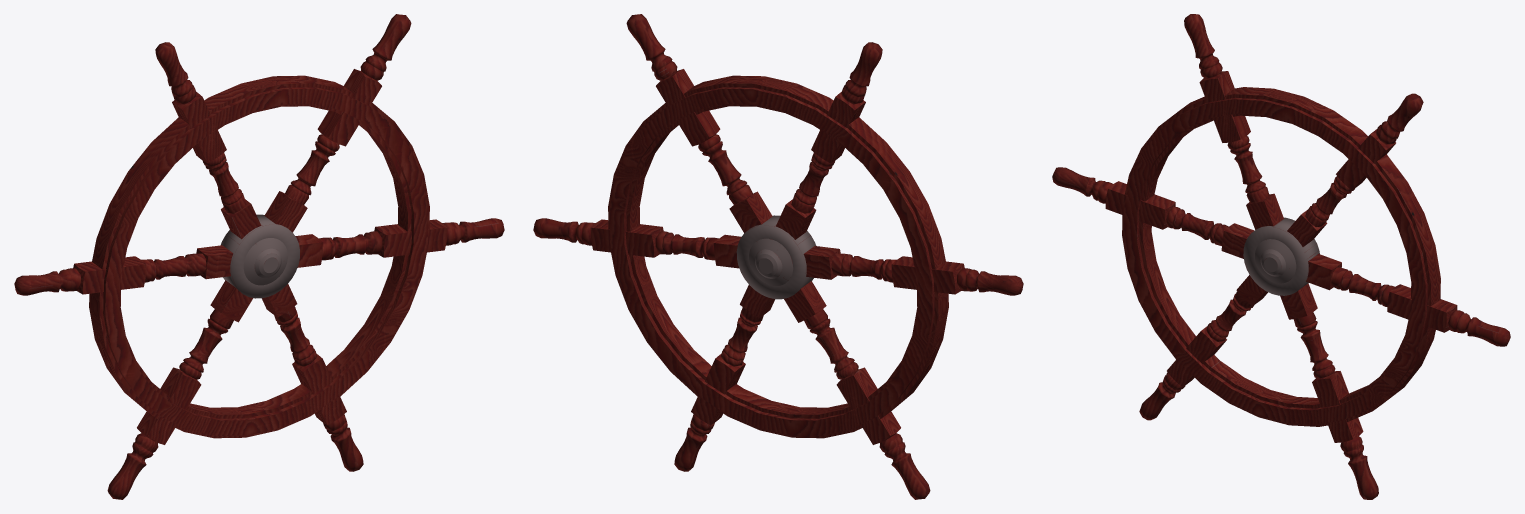
File: SM_Helm_01.fbx
The picture shows the model from 3 angles, left to right: view 1: azimuth 30°, elevation 25°; view 2: azimuth 150°, elevation 25°; view 3: azimuth 330°, elevation 25°; orthographic projection. The views are drawn at different scales.
Visible parts, largest first — view 1: Окружность.002; view 2: Окружность.002; view 3: Окружность.002.
Part boxes in pixels (x1,y1,x2,y2): Окружность.002: [14, 14, 504, 499]; Окружность.002: [533, 14, 1023, 499]; Окружность.002: [1052, 14, 1510, 499].
Bounding box in the file's own units: 747 × 692 × 62.86.
